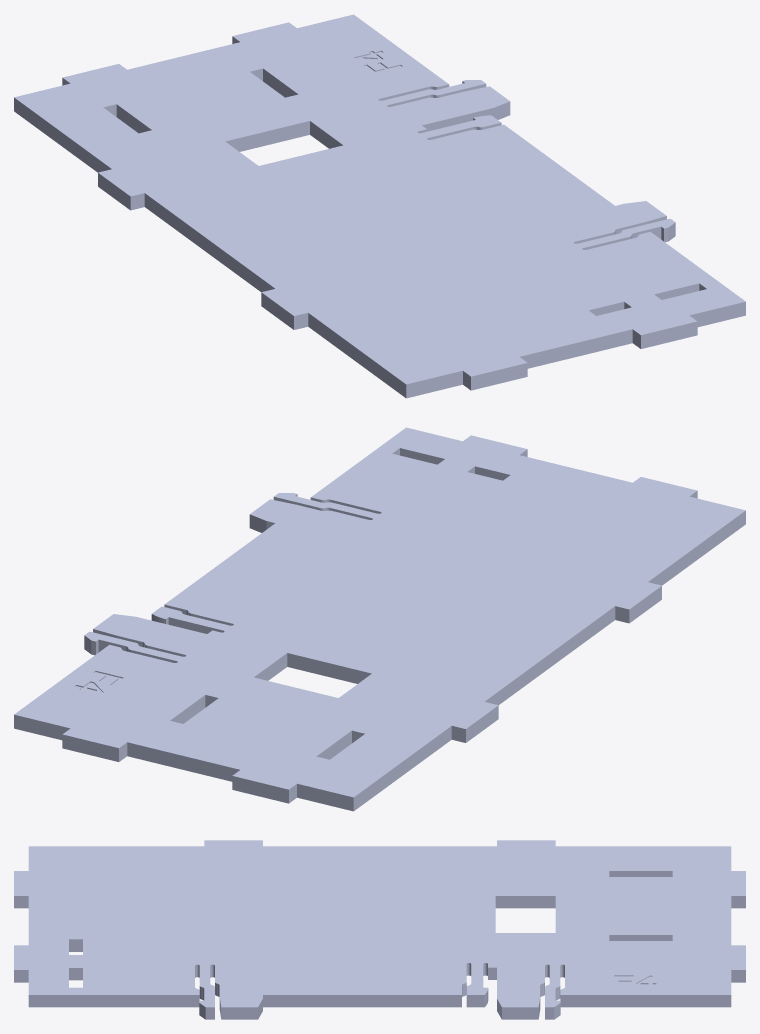
3 renders of one model, top to bottom at view 1: azimuth 30°, elevation 25°; view 2: azimuth 150°, elevation 25°; view 3: azimuth 270°, elevation 25°, orthographic. The views are drawn at different scales.
Visible parts, largest first — view 1: NAUO50; view 2: NAUO50; view 3: NAUO50.
Boxes of the visible parts, x1,y1,x2,y2 form: NAUO50: [14, 14, 745, 398]; NAUO50: [14, 427, 745, 811]; NAUO50: [14, 840, 745, 1019].
Size of the model in its own units: 0.0858 by 0.003 by 0.1588.
